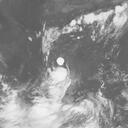cyclone: (39, 50, 75, 101)
